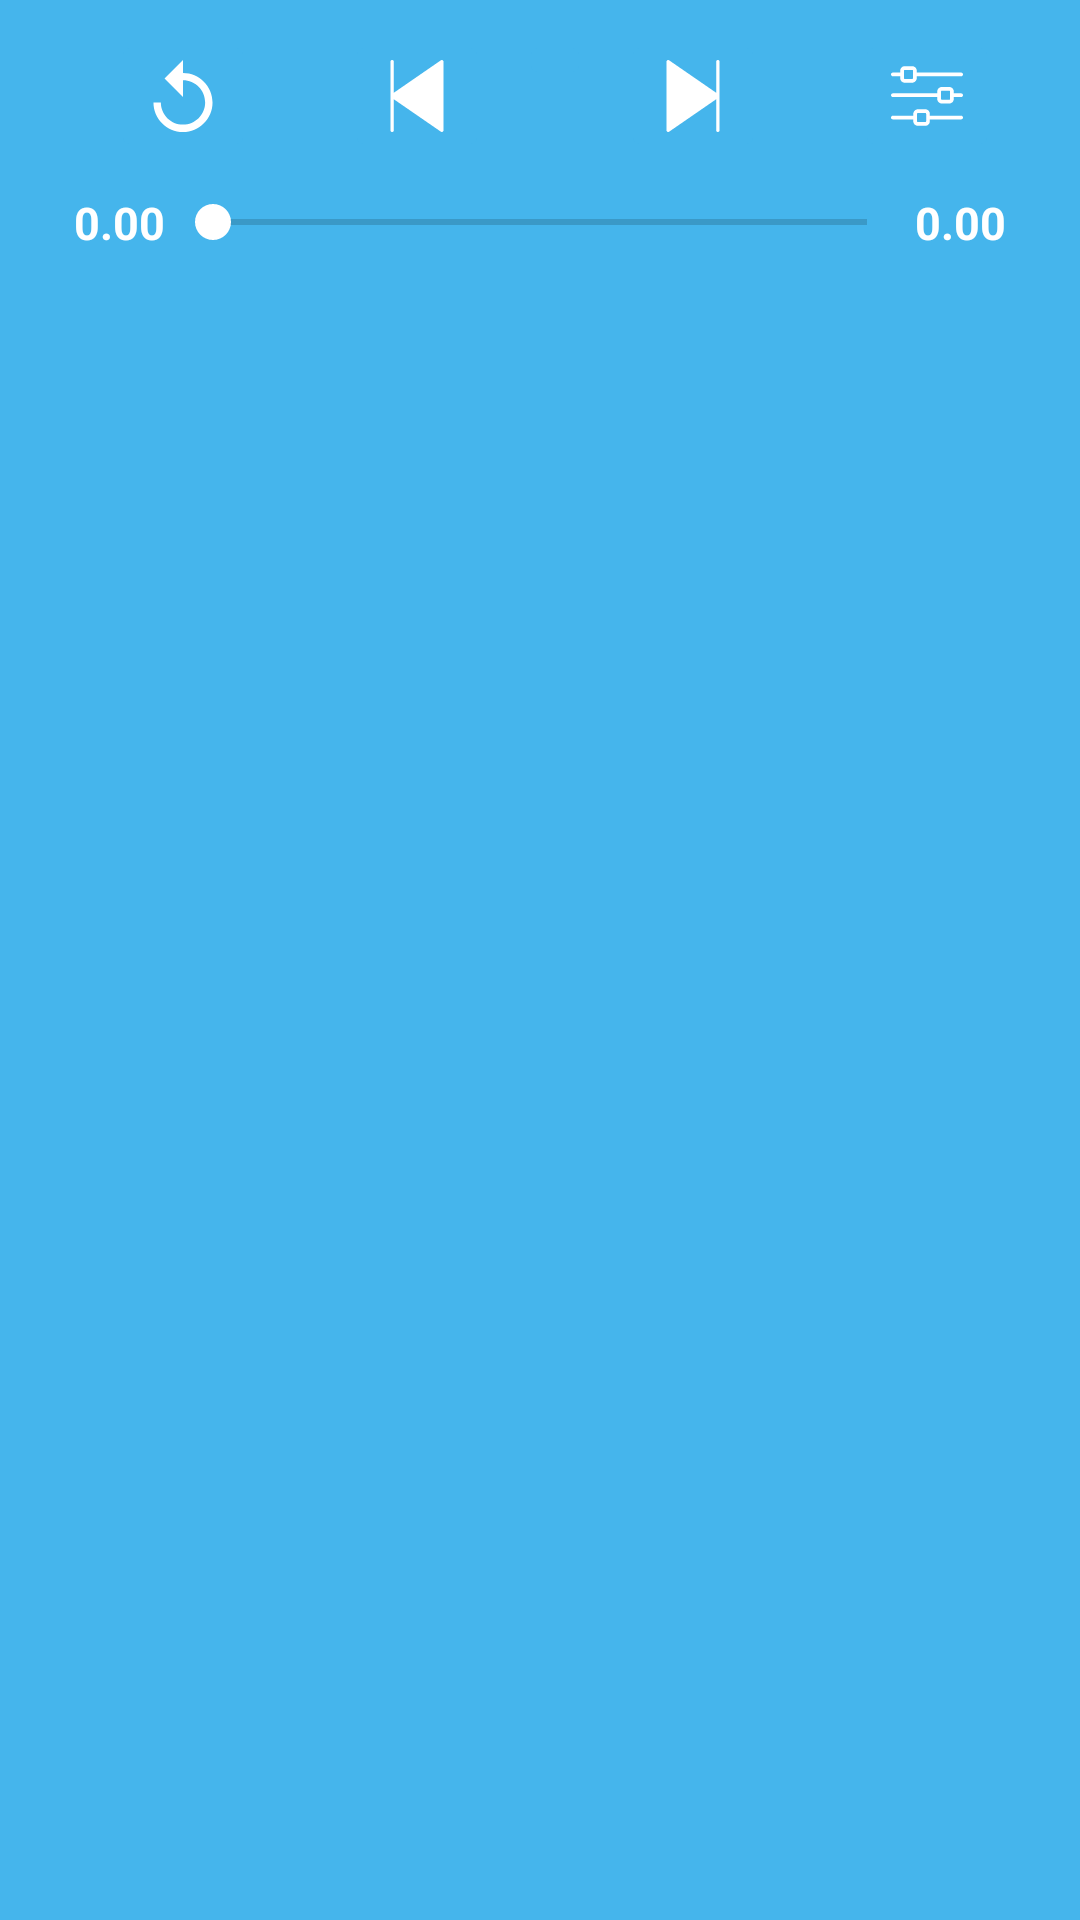

Locate icon controls on the screen. Image size 1080 × 1920, boxes as {"left": x1, "top": y1, "right": x2, "bottom": y2}.
next: {"left": 666, "top": 60, "right": 720, "bottom": 132}
previous: {"left": 390, "top": 60, "right": 444, "bottom": 132}
settings: {"left": 891, "top": 66, "right": 963, "bottom": 126}
undo: {"left": 153, "top": 60, "right": 213, "bottom": 132}
